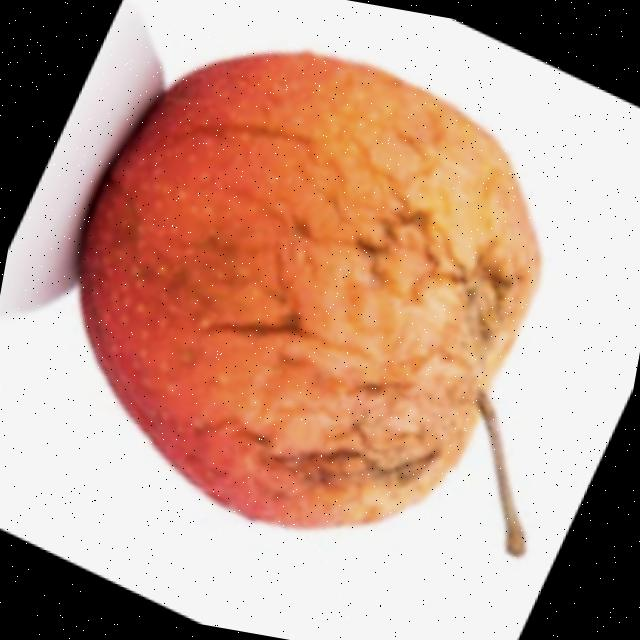overripe: (34, 12, 573, 570)
